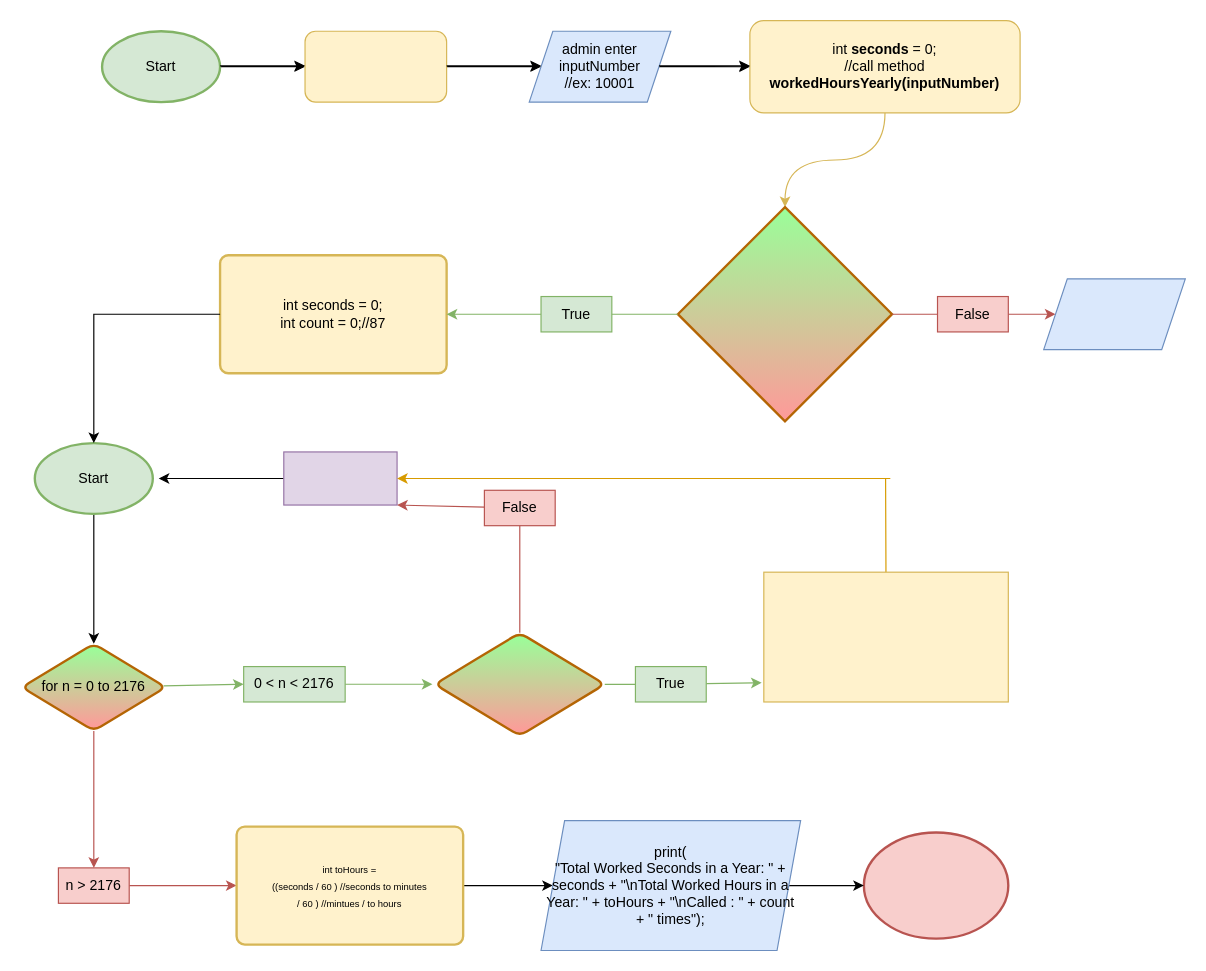
Some shapes in this 1206 by 971 pixel diagram are drawn without their labels. The box of each missing label's shape, as (x1, y1, x2, y2) in pixels:
check if inputNumber == datasheet employeenumber(n): (433, 631, 605, 736)
does inputNumber Exist in database employee #?: (676, 205, 893, 422)
End: (862, 831, 1009, 939)
n increases by 1: (283, 451, 397, 505)
print Account Not Found: (1043, 278, 1185, 350)
seconds += //call method that will return int getTimeDifferenceSeconds(in, out): (763, 571, 1008, 702)
String inputNumber: (304, 30, 447, 102)
